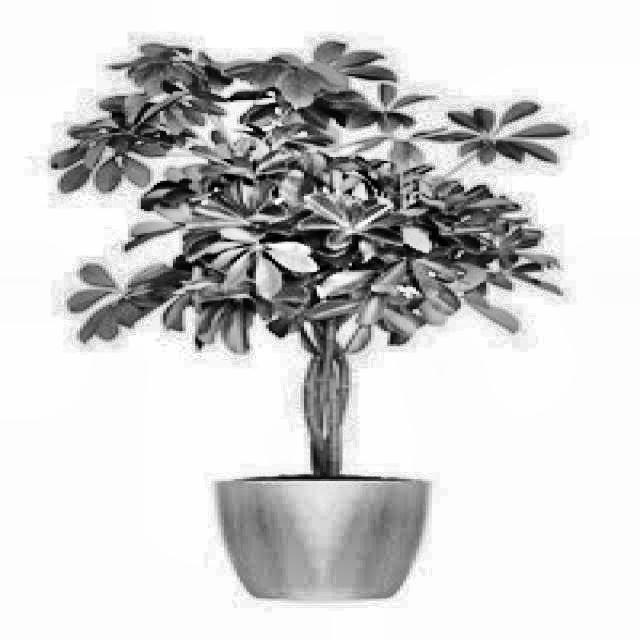plants: (50, 34, 591, 609)
